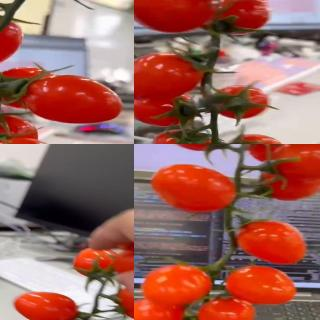tomato: (21, 76, 124, 128), (148, 163, 240, 214), (234, 218, 308, 266), (134, 51, 204, 101), (223, 264, 298, 306), (142, 264, 212, 305), (0, 66, 65, 108), (134, 0, 216, 32), (134, 90, 200, 127), (206, 0, 270, 33), (254, 167, 320, 199), (263, 144, 320, 181), (13, 290, 81, 320), (215, 86, 271, 120), (72, 248, 122, 280), (201, 297, 257, 320), (0, 113, 39, 144), (0, 13, 23, 65), (244, 144, 304, 163), (134, 299, 186, 320), (150, 129, 211, 144), (223, 132, 289, 144), (112, 245, 134, 279), (114, 287, 134, 320), (157, 144, 238, 152)
